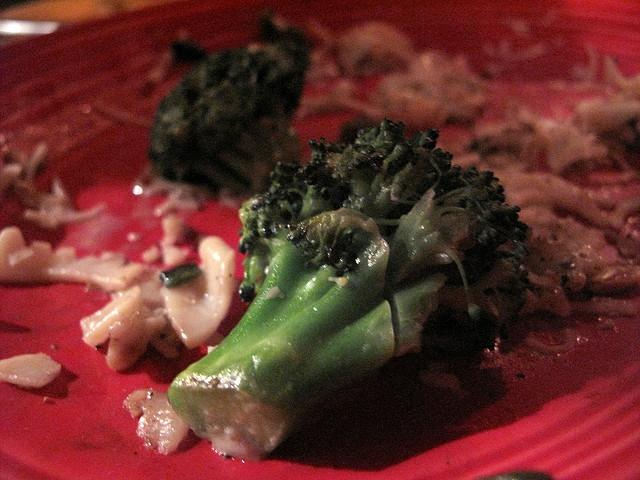broccoli: (167, 116, 535, 464), (150, 9, 314, 202)
